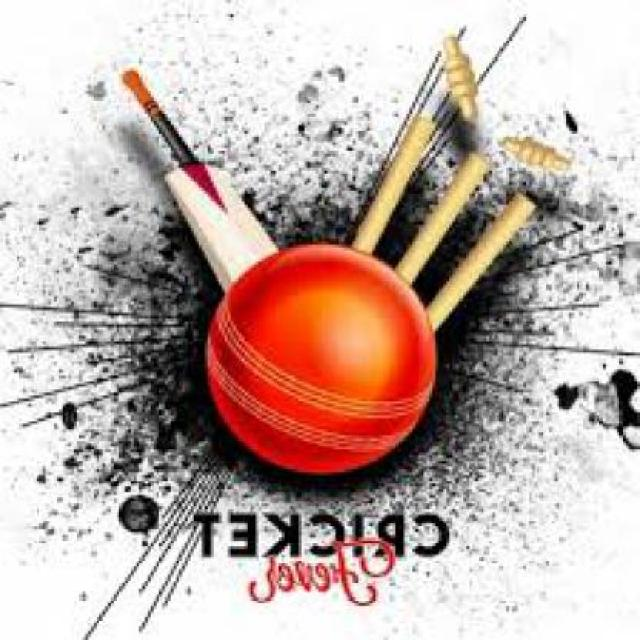ball: (150, 221, 470, 515)
